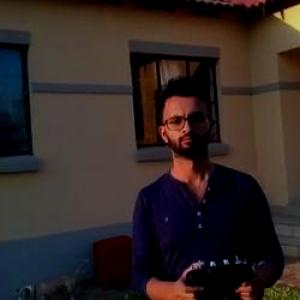follow: (120, 71, 286, 299)
null: (11, 256, 92, 298)
